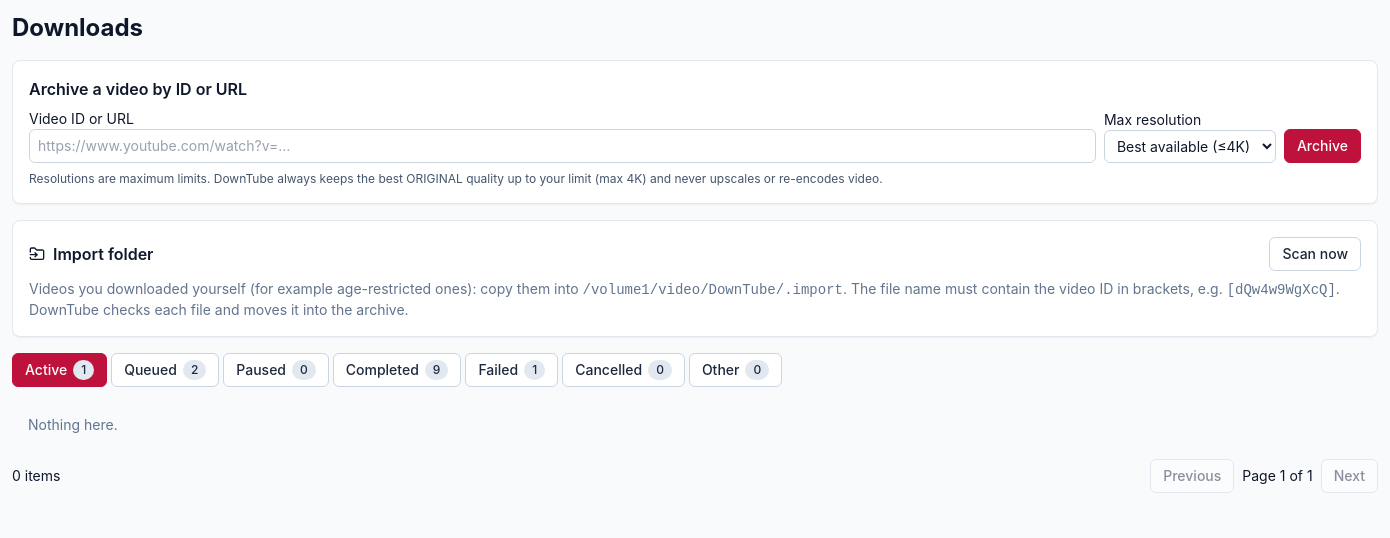
Scenario: DownloadsPage › scans the import folder on request
The width and height of the screenshot is (1390, 538).
Click the button "Scan now": (1315, 254) x1=1269 y1=237 x2=1361 y2=271
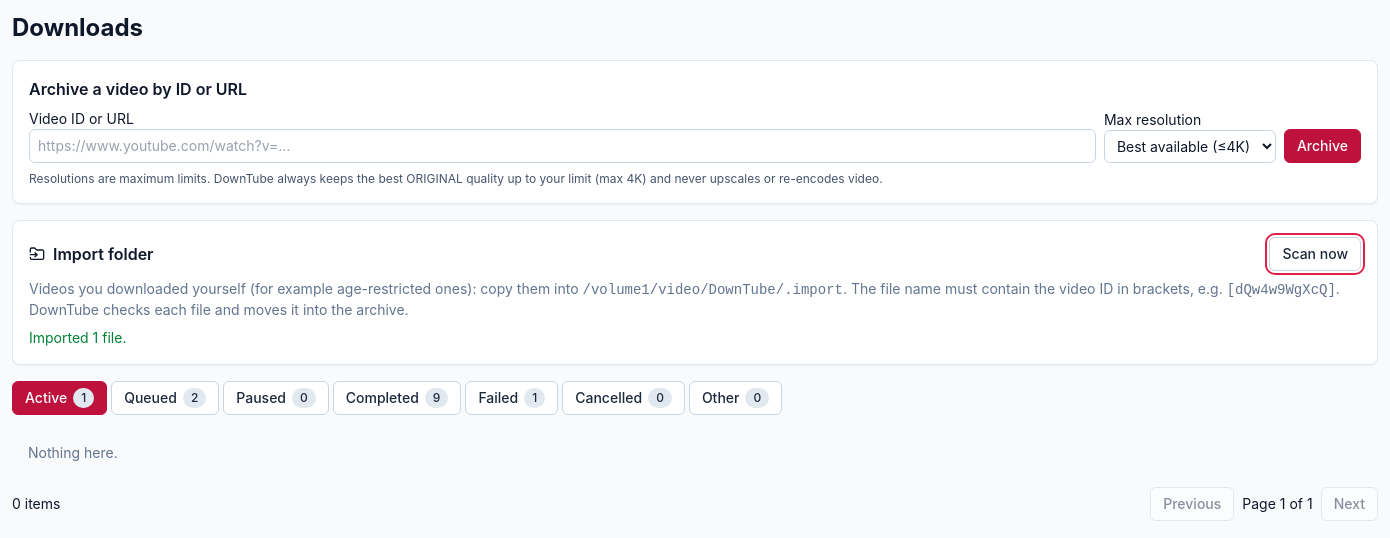
expect the text "Imported 1 file." is shown: met, box x1=29 y1=329 x2=126 y2=346
